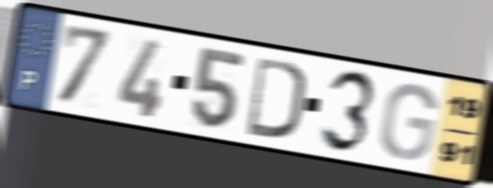3: (315, 68, 380, 156)
4: (113, 34, 166, 122)
5: (190, 43, 249, 133)
7: (58, 21, 116, 108)
D: (244, 53, 307, 143)
G: (377, 82, 440, 163)
